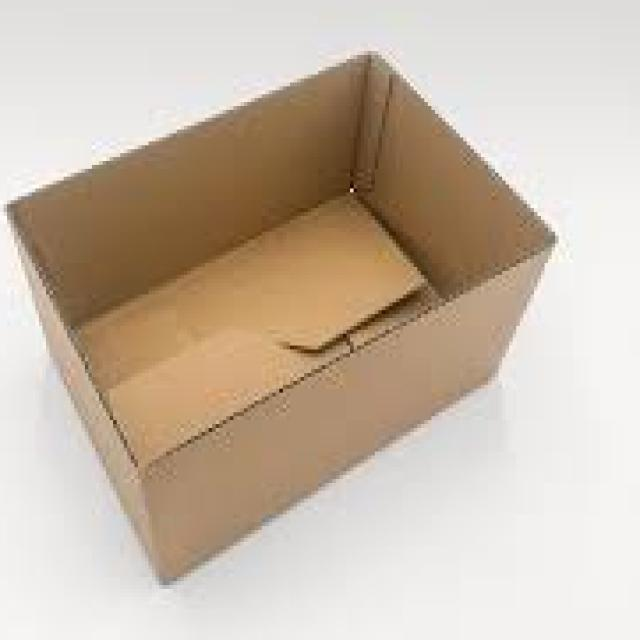organic: (14, 49, 536, 561)
